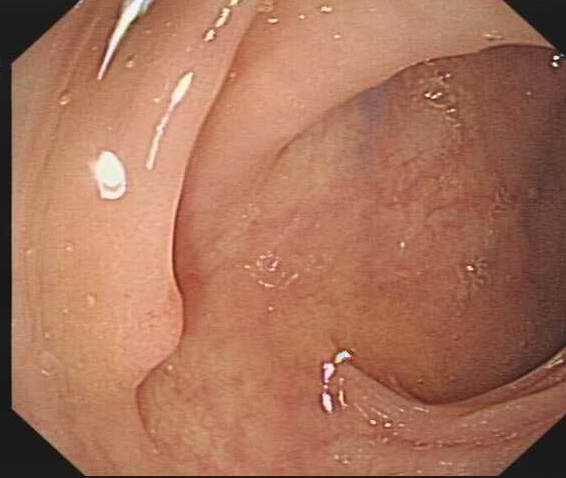others: (128, 277, 187, 388)
